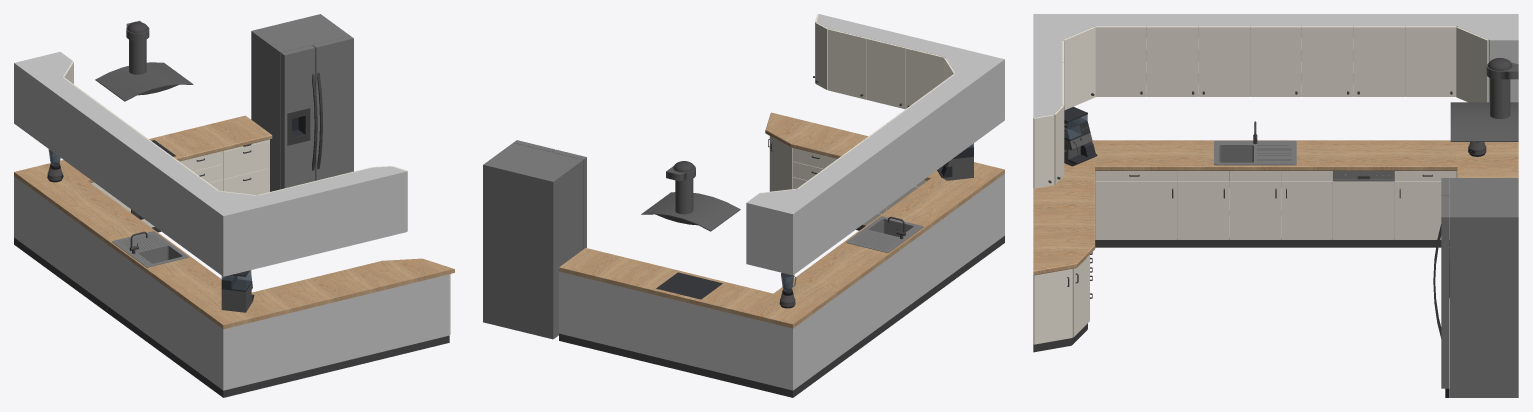
Rendered from Kitchen.FBX.
3 renders of one model, left to right at view 1: azimuth 30°, elevation 25°; view 2: azimuth 150°, elevation 25°; view 3: azimuth 270°, elevation 25°, orthographic. The views are drawn at different scales.
Parts seen in each view (by area): view 1: Kitchen, Benkeplate_kitchen; view 2: Kitchen, Benkeplate_kitchen; view 3: Kitchen, Benkeplate_kitchen.
Boxes of the visible parts, x1,y1,x2,y2 form: Kitchen: (14, 14, 450, 397); Benkeplate_kitchen: (14, 115, 454, 329); Kitchen: (483, 14, 1004, 397); Benkeplate_kitchen: (559, 112, 1004, 328); Kitchen: (1033, 14, 1518, 397); Benkeplate_kitchen: (1033, 140, 1518, 275).
Bounding box in the file's own units: 156 × 96.87 × 185.
